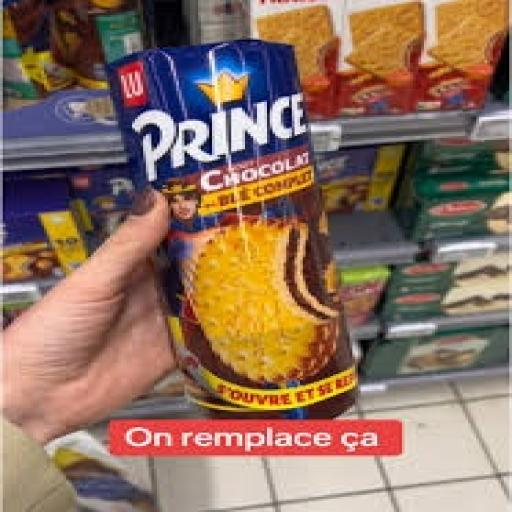prince: (34, 25, 464, 426)
